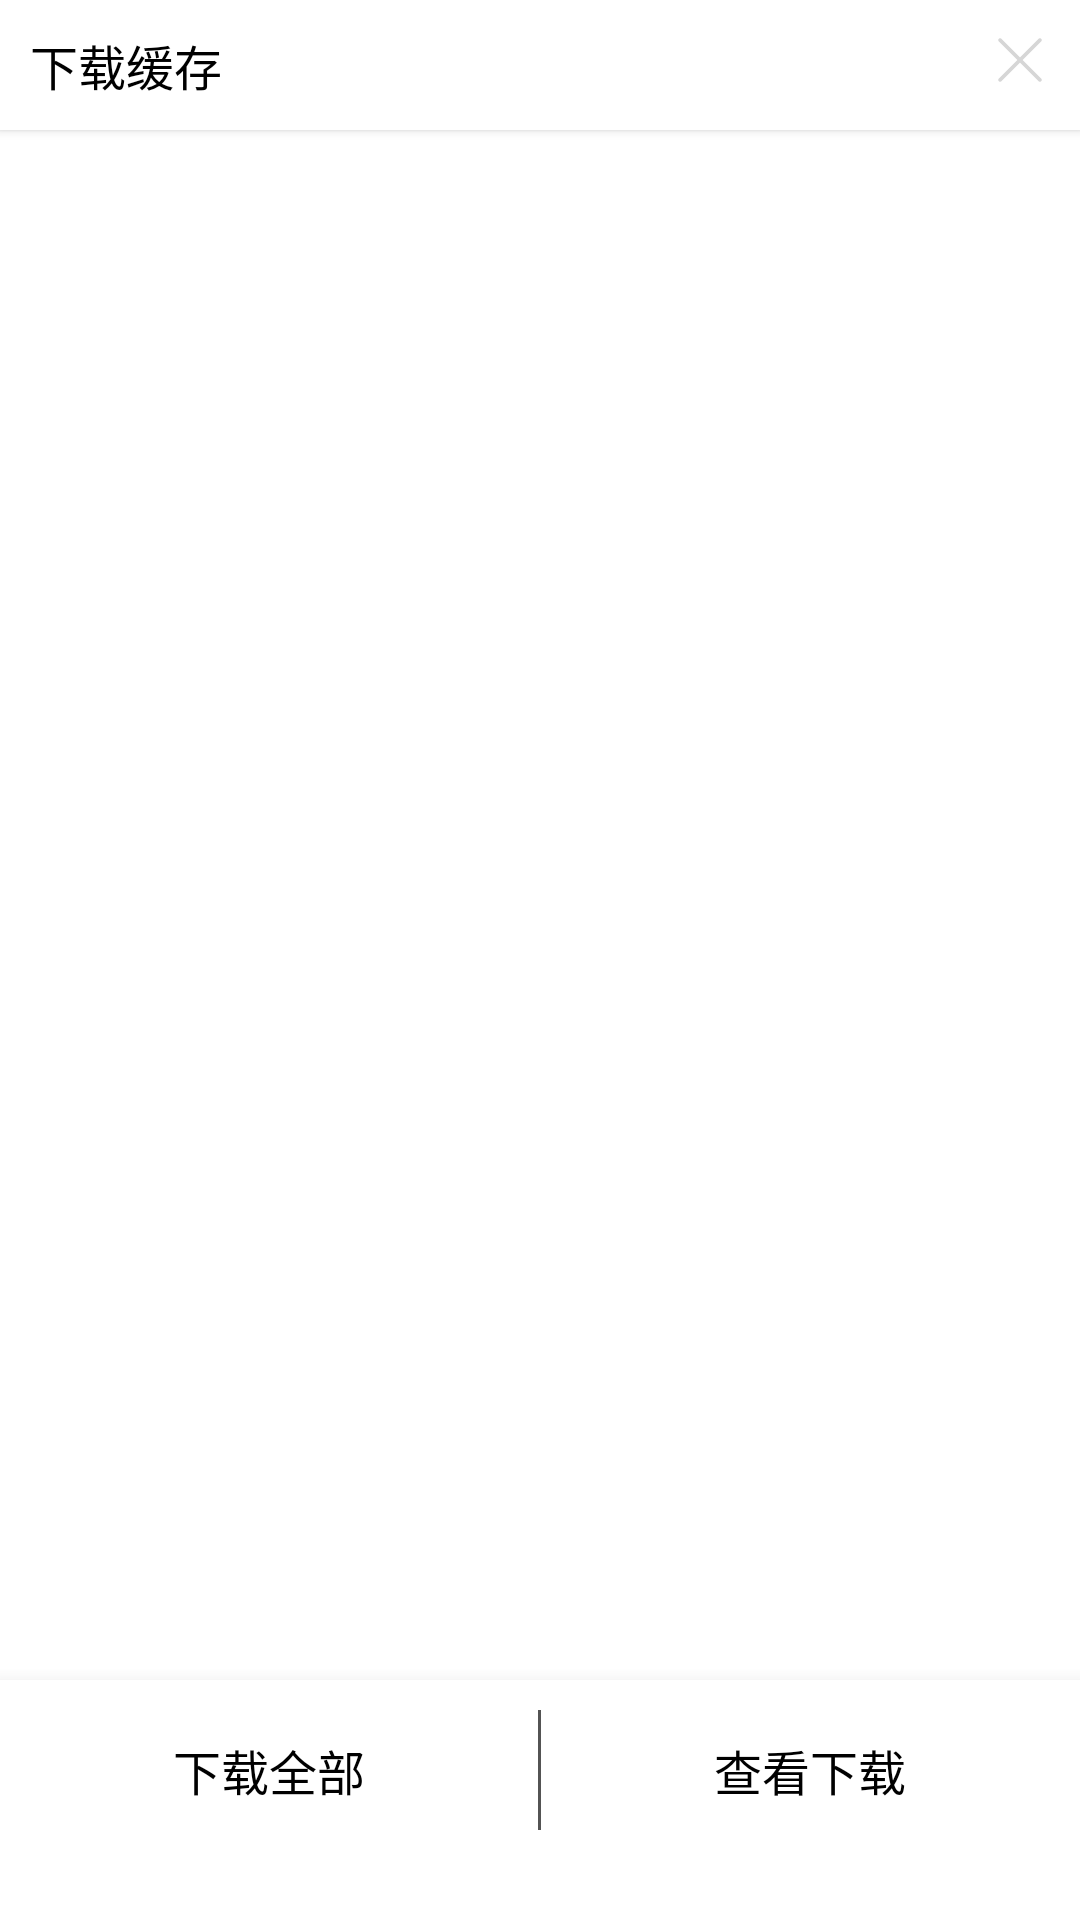

Icons on this 1080 × 1920 Android screen, each with the point to tap as point (x, y):
guanbixiao: point (1020, 60)
